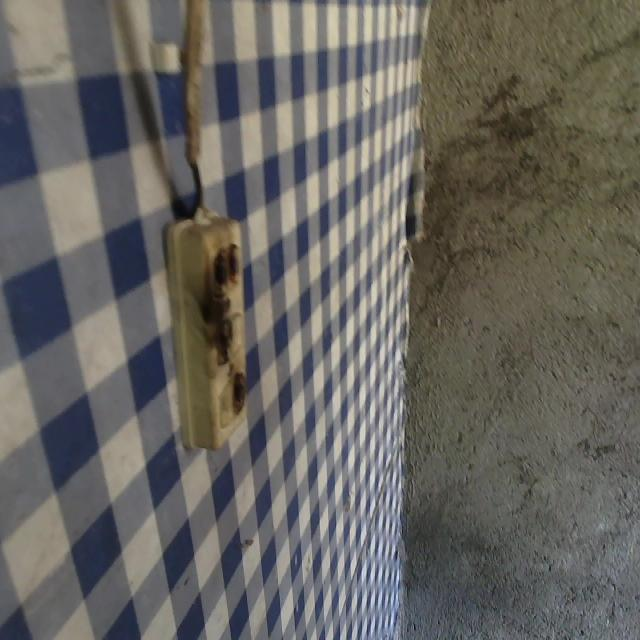-: (210, 242, 239, 290), (213, 318, 233, 366), (236, 372, 245, 416)
